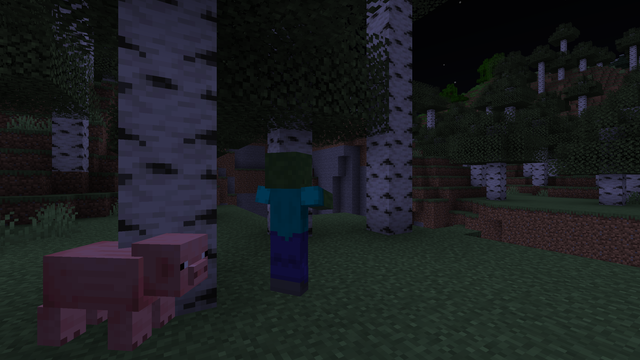cochons: (41, 237, 166, 355)
zombies: (263, 154, 316, 302)
